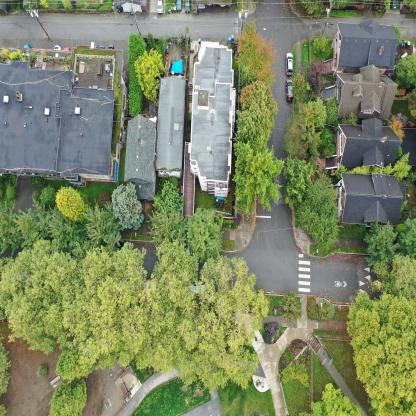Coniferous Tree: (302, 182, 338, 251), (188, 210, 224, 256), (112, 184, 142, 235), (49, 380, 90, 416), (81, 199, 115, 241), (148, 210, 186, 246), (282, 115, 311, 157), (50, 210, 79, 248), (12, 212, 36, 246), (56, 356, 92, 378), (363, 232, 395, 256), (0, 209, 17, 251), (278, 291, 300, 318), (35, 209, 55, 238), (241, 397, 269, 416), (302, 0, 320, 19), (240, 65, 250, 85), (36, 366, 48, 379), (236, 129, 245, 143)
Deciduous Tree: (198, 258, 264, 386), (58, 250, 118, 357), (348, 292, 399, 416), (119, 244, 159, 372), (9, 249, 56, 353), (160, 283, 196, 381), (234, 142, 282, 206), (238, 25, 274, 80), (294, 390, 361, 416), (242, 86, 272, 140), (154, 244, 196, 280), (284, 158, 314, 208), (138, 52, 165, 101), (0, 262, 8, 324), (0, 341, 7, 395)
